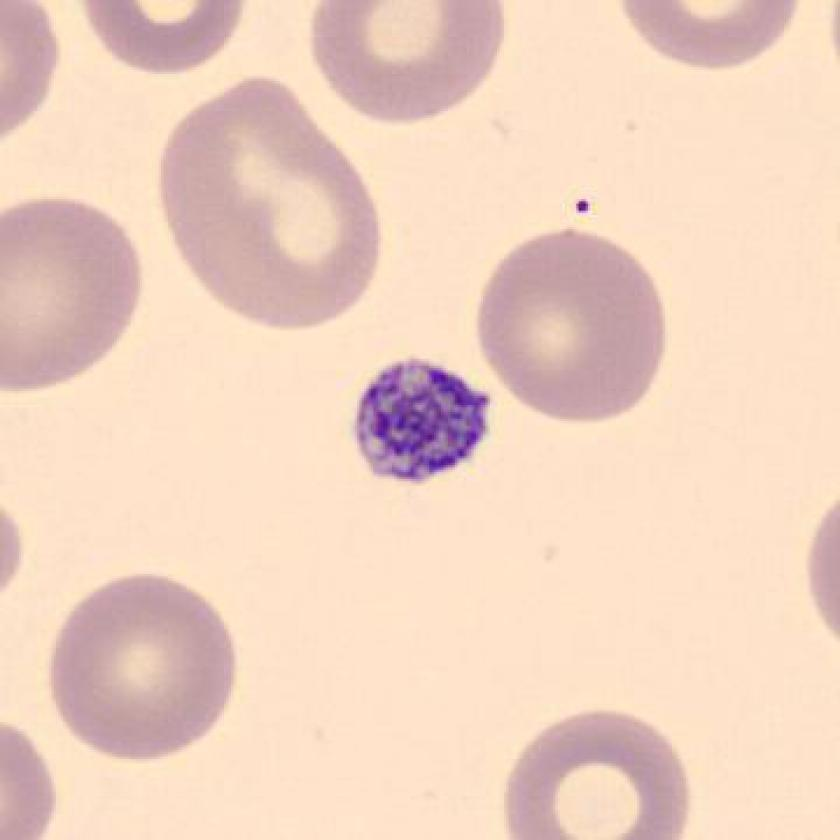platelets: (337, 346, 503, 494)
